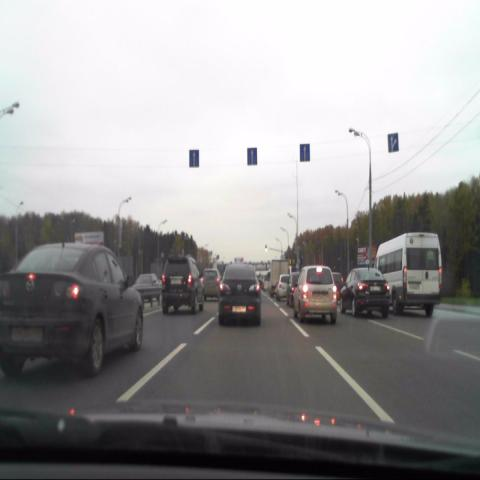5_15_2: (299, 143, 310, 162), (388, 133, 398, 152), (247, 147, 257, 165), (189, 150, 199, 167)
